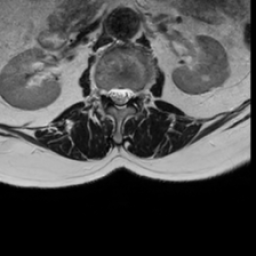CCS_normal: (116, 80, 124, 113)
LFS_stenosis: (132, 81, 140, 105)
LLS_normal: (124, 81, 132, 108)
RFS_stenosis: (100, 80, 108, 102)
RLS_normal: (108, 80, 116, 109)
